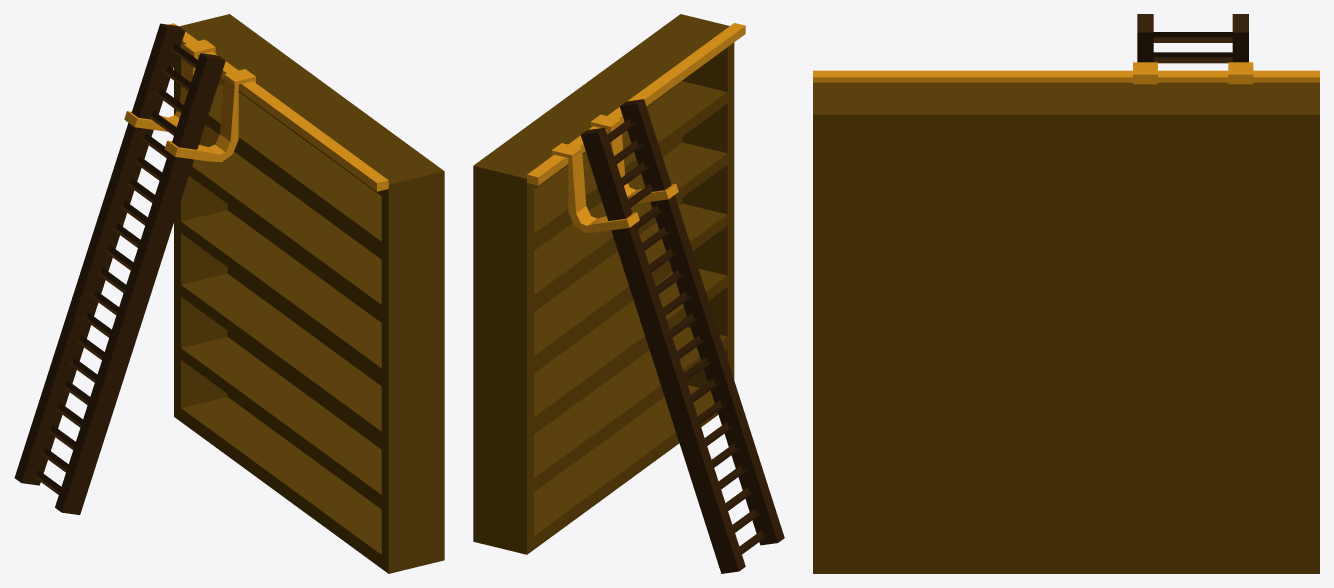
Rendered from bookCaseXL_ladder_empty.fbx.
The picture shows the model from 3 angles, left to right: view 1: azimuth 30°, elevation 25°; view 2: azimuth 150°, elevation 25°; view 3: azimuth 270°, elevation 25°; orthographic projection. The views are drawn at different scales.
Visible parts, largest first — view 1: bookCase_XL_ladder; view 2: bookCase_XL_ladder; view 3: bookCase_XL_ladder.
Part boxes in pixels (box(x1,y1,x2,y2)): bookCase_XL_ladder: box(14, 14, 444, 573); bookCase_XL_ladder: box(473, 14, 784, 573); bookCase_XL_ladder: box(813, 14, 1319, 573).
Size of the model in its own units: 132 by 219 by 200.
